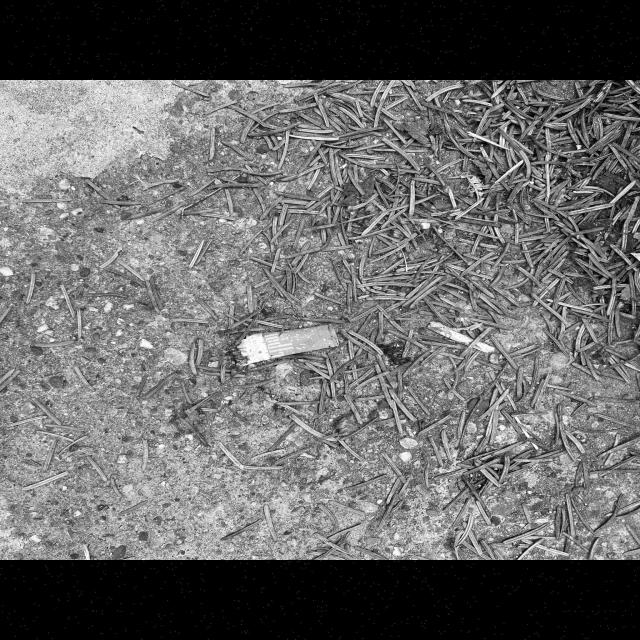other waste: (230, 321, 340, 367)
